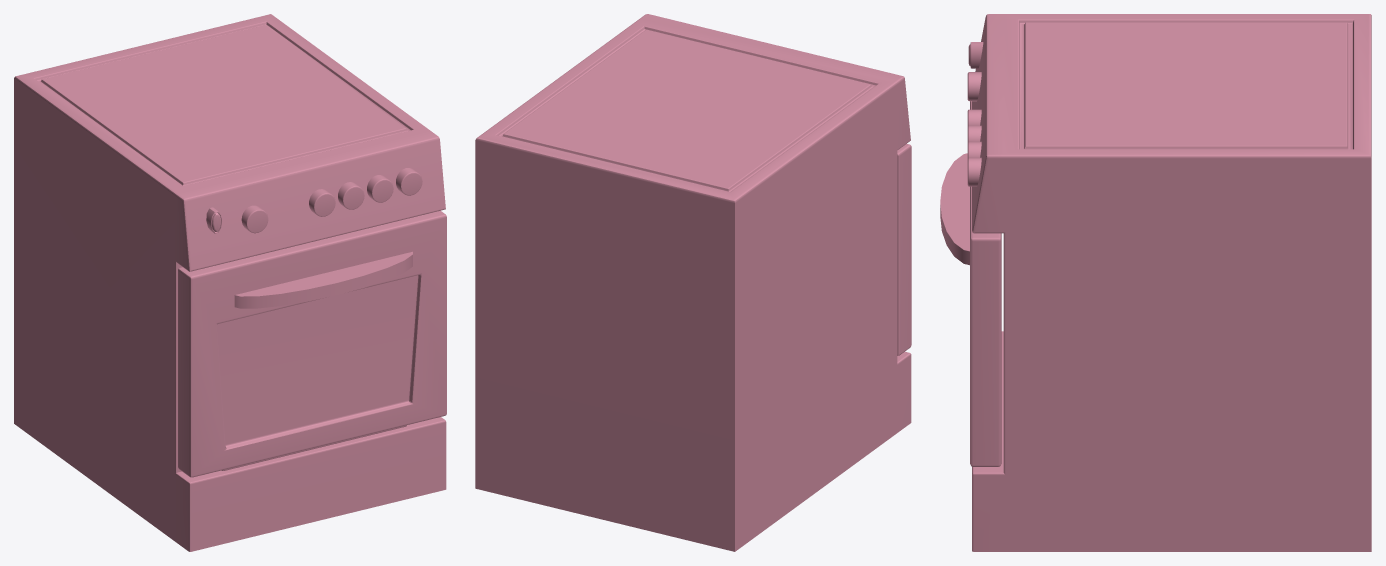
Rendered from EnvrioProp_Oven.fbx.
3 views of the same model, side by side, from view 1: azimuth 30°, elevation 25°; view 2: azimuth 150°, elevation 25°; view 3: azimuth 270°, elevation 25° (orthographic). The views are drawn at different scales.
Parts seen in each view (by area): view 1: EnvrioProp_OvenShape; view 2: EnvrioProp_OvenShape; view 3: EnvrioProp_OvenShape.
Boxes of the visible parts, x1,y1,x2,y2 form: EnvrioProp_OvenShape: (14, 14, 446, 551); EnvrioProp_OvenShape: (475, 14, 911, 551); EnvrioProp_OvenShape: (940, 14, 1371, 551).
Size of the model in its own units: 1 by 1.29 by 1.28.
